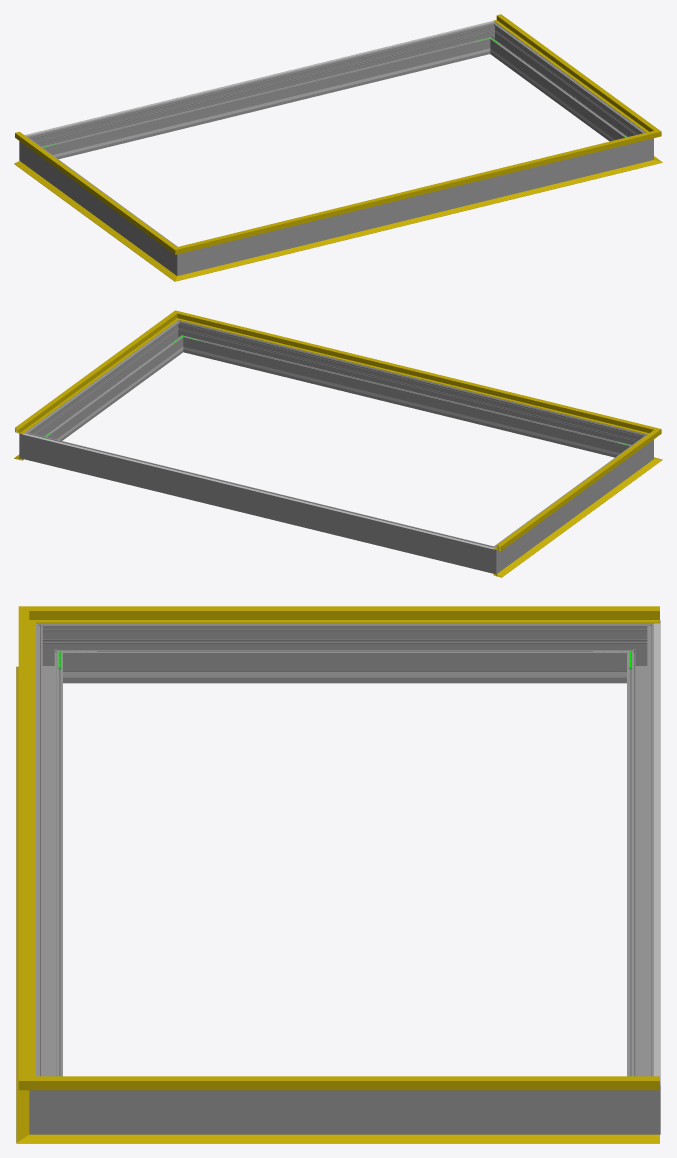
The picture shows the model from 3 angles, top to bottom: view 1: azimuth 30°, elevation 25°; view 2: azimuth 150°, elevation 25°; view 3: azimuth 270°, elevation 25°; orthographic projection. The views are drawn at different scales.
Parts seen in each view (by area): view 1: 3DGeom-278, 3DGeom-300, 3DGeom-299, 3DGeom-123, 3DGeom-270, 3DGeom-28, 3DGeom-128, 3DGeom-118, 3DGeom-246, 3DGeom-38, 3DGeom-222, 3DGeom-272 (+3 smaller); view 2: 3DGeom-300, 3DGeom-278, 3DGeom-299, 3DGeom-123, 3DGeom-270, 3DGeom-128, 3DGeom-118, 3DGeom-241, 3DGeom-38, 3DGeom-222, 3DGeom-280, 3DGeom-286 (+2 smaller); view 3: 3DGeom-270, 3DGeom-299, 3DGeom-278, 3DGeom-300, 3DGeom-118, 3DGeom-128, 3DGeom-123, 3DGeom-30, 3DGeom-222, 3DGeom-234, 3DGeom-286, 3DGeom-292 (+5 smaller).
Boxes of the visible parts, x1,y1,x2,y2 form: 3DGeom-278: (38, 25, 487, 159); 3DGeom-300: (194, 142, 636, 271); 3DGeom-299: (492, 28, 640, 141); 3DGeom-123: (190, 134, 643, 250); 3DGeom-270: (29, 142, 172, 268); 3DGeom-28: (189, 163, 645, 277); 3DGeom-128: (494, 14, 650, 130); 3DGeom-118: (15, 131, 169, 247); 3DGeom-246: (59, 52, 473, 156); 3DGeom-38: (14, 161, 169, 273); 3DGeom-222: (24, 20, 494, 136); 3DGeom-272: (167, 243, 194, 275); 3DGeom-300: (186, 324, 634, 457); 3DGeom-278: (37, 435, 481, 569); 3DGeom-299: (32, 326, 181, 440); 3DGeom-123: (188, 314, 643, 432); 3DGeom-270: (501, 440, 643, 566); 3DGeom-128: (15, 317, 172, 434); 3DGeom-118: (494, 435, 651, 550); 3DGeom-241: (200, 351, 614, 454); 3DGeom-38: (493, 464, 652, 577); 3DGeom-222: (22, 433, 494, 549); 3DGeom-280: (479, 541, 506, 574); 3DGeom-286: (19, 427, 39, 462); 3DGeom-270: (69, 623, 620, 683); 3DGeom-299: (69, 1090, 620, 1134); 3DGeom-278: (627, 637, 660, 1076); 3DGeom-300: (36, 637, 62, 1076); 3DGeom-118: (58, 606, 659, 623); 3DGeom-128: (58, 1076, 659, 1090); 3DGeom-123: (18, 623, 35, 1072); 3DGeom-30: (56, 1134, 659, 1143); 3DGeom-222: (654, 623, 660, 1082); 3DGeom-234: (101, 672, 588, 677); 3DGeom-286: (620, 1069, 660, 1134); 3DGeom-292: (29, 1069, 69, 1134).
Bounding box in the file's own units: 4.27 × 0.2596 × 2.44.
